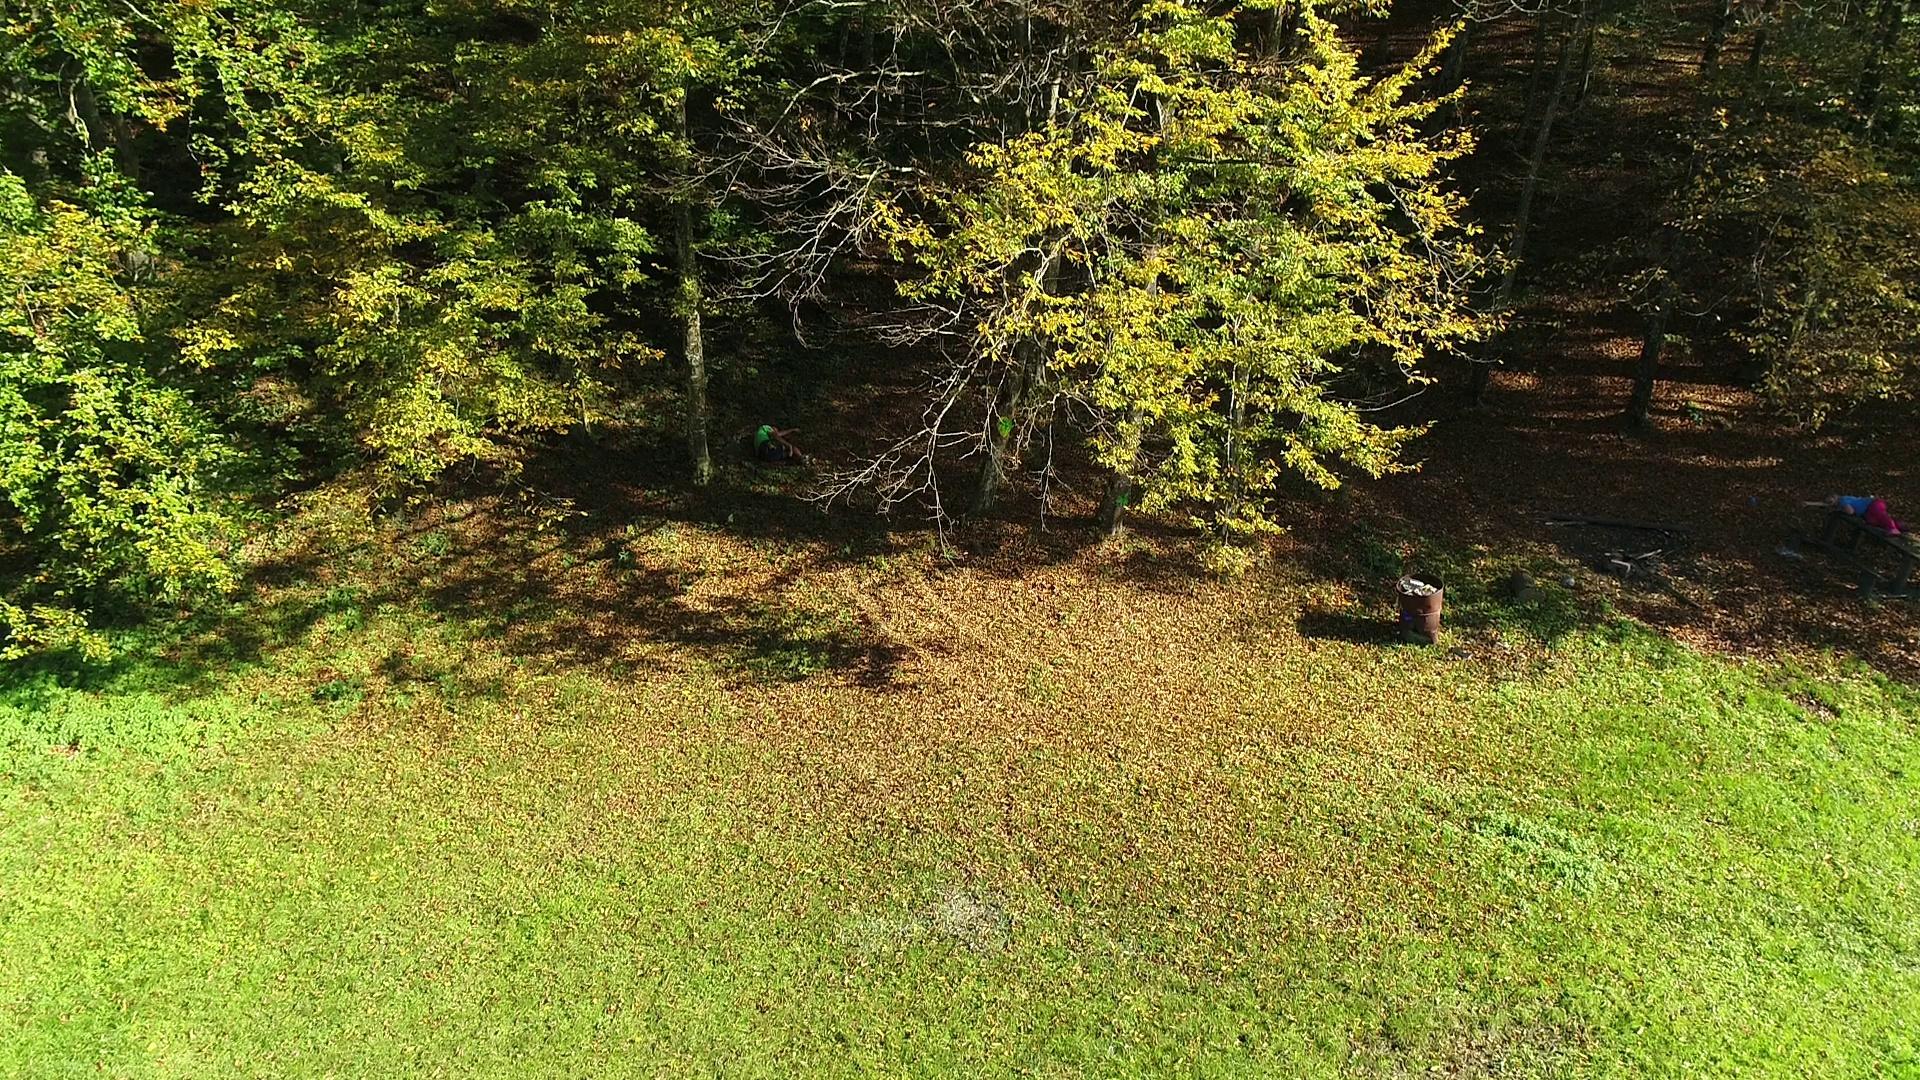person: (1801, 492, 1908, 536), (755, 424, 813, 466)
